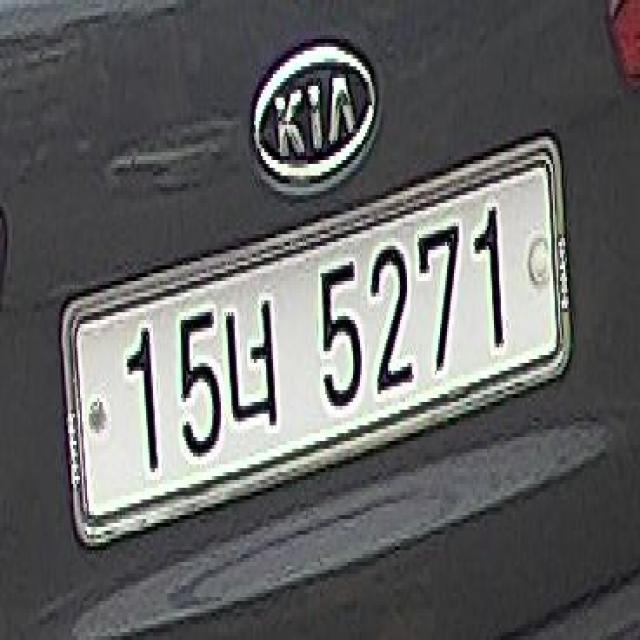1: (468, 183, 518, 371), (125, 304, 169, 492)
2: (367, 230, 416, 410)
5: (316, 242, 364, 425), (176, 293, 224, 468)
7: (416, 199, 466, 394)
license_plate: (58, 125, 578, 566)
neo: (224, 277, 286, 453)
